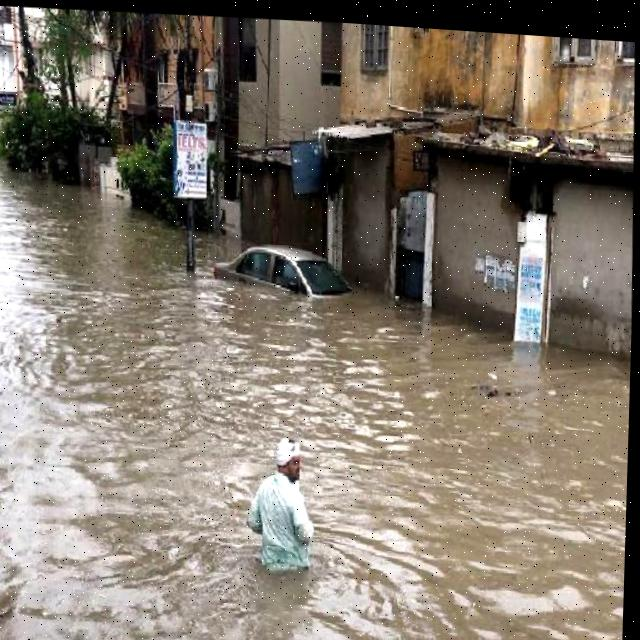civilian: (219, 408, 357, 608)
